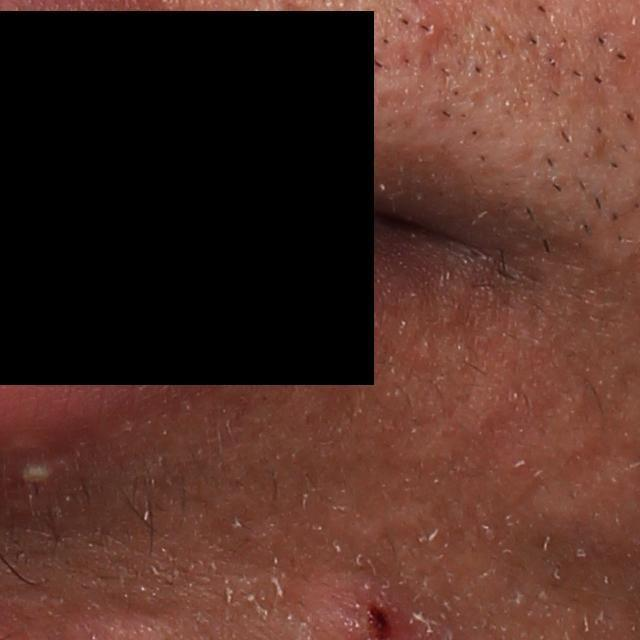pustule: (11, 462, 69, 492)
